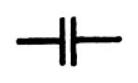Capacitor: (47, 10, 83, 68)
